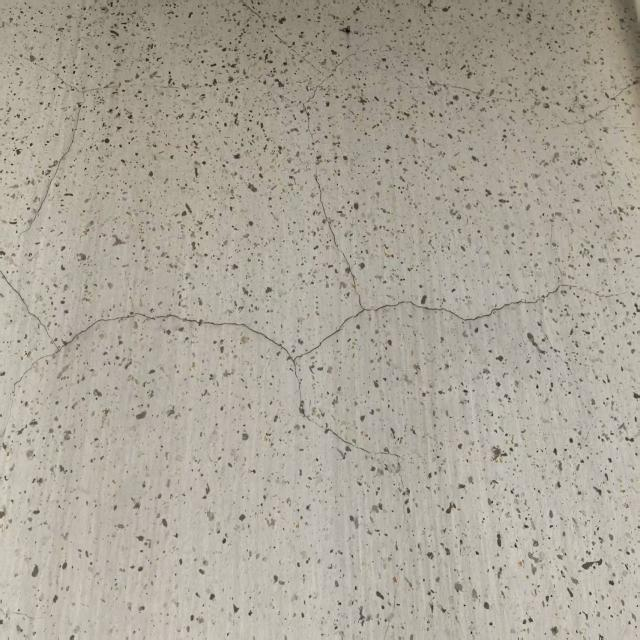crack: (0, 8, 625, 639), (7, 50, 188, 256), (431, 74, 633, 227)
